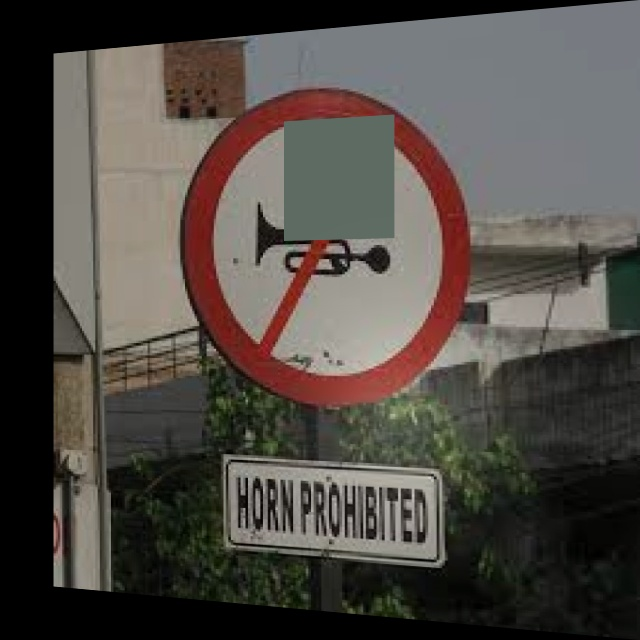Horn_Prohibited: (192, 79, 468, 407)
